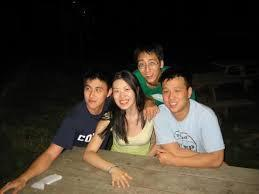Drunk: (162, 78, 188, 114), (111, 80, 136, 110), (81, 78, 106, 107), (136, 51, 159, 81)
